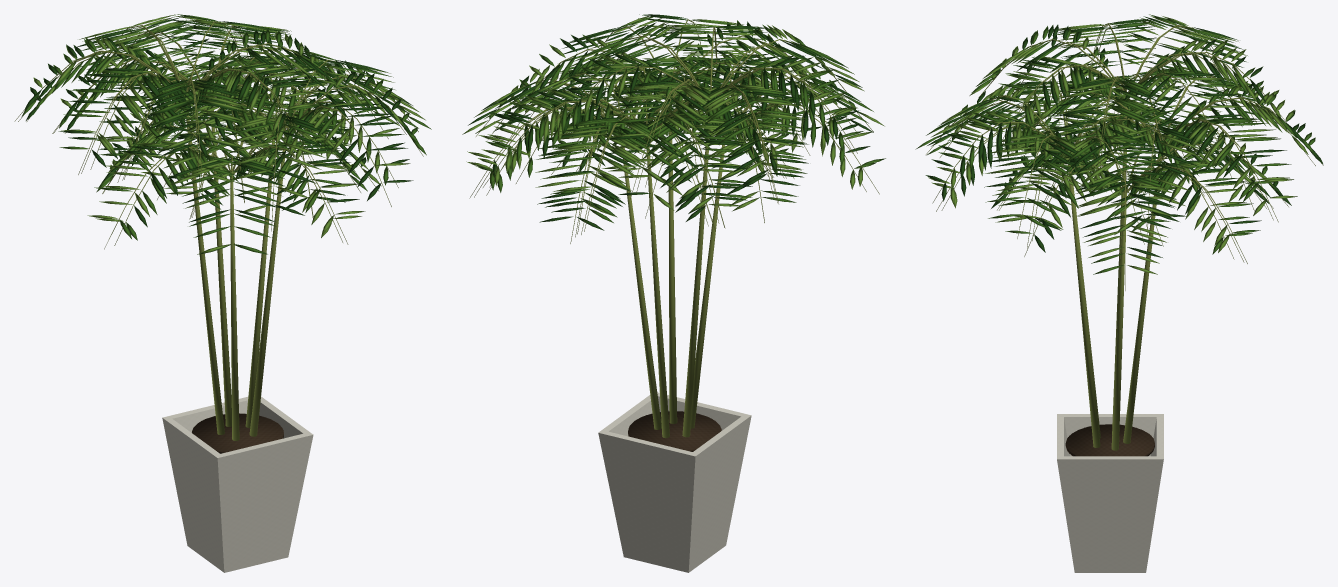
File: MV_Palm_Pot_Square_Tall.fbx
3 views of the same model, side by side, from view 1: azimuth 30°, elevation 25°; view 2: azimuth 150°, elevation 25°; view 3: azimuth 270°, elevation 25° (orthographic). The views are drawn at different scales.
Visible parts, largest first — view 1: LOD0_Mesh, LOD1_Mesh, LOD2_Mesh; view 2: LOD0_Mesh, LOD1_Mesh, LOD2_Mesh; view 3: LOD0_Mesh, LOD1_Mesh, LOD2_Mesh.
Part boxes in pixels (x1=…): LOD0_Mesh: x1=26, y1=14, x2=431, y2=572; LOD1_Mesh: x1=18, y1=14, x2=418, y2=451; LOD2_Mesh: x1=14, y1=23, x2=400, y2=453; LOD0_Mesh: x1=462, y1=14, x2=876, y2=572; LOD1_Mesh: x1=466, y1=25, x2=885, y2=449; LOD2_Mesh: x1=467, y1=30, x2=857, y2=451; LOD0_Mesh: x1=925, y1=16, x2=1323, y2=572; LOD1_Mesh: x1=915, y1=14, x2=1323, y2=456; LOD2_Mesh: x1=996, y1=16, x2=1315, y2=456.
Bounding box in the file's own units: 2.27 × 3 × 2.29.
